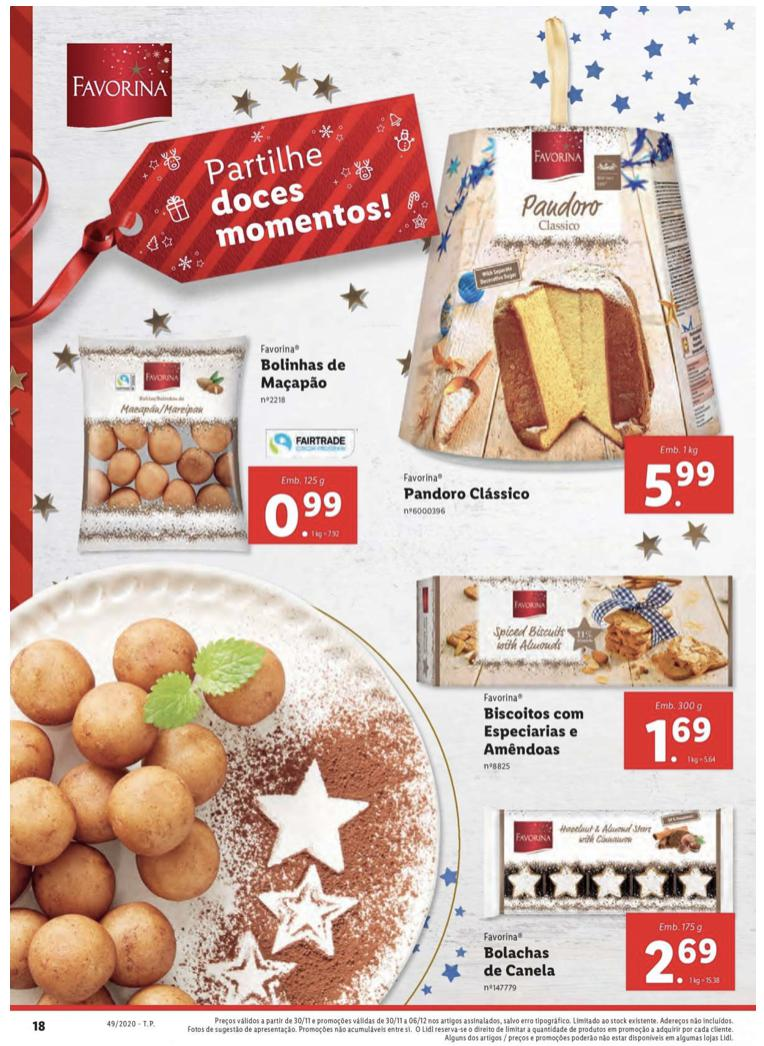name: (479, 703, 587, 758), (259, 354, 348, 393), (478, 942, 559, 980), (400, 483, 535, 503)
price: (621, 455, 724, 509), (254, 487, 344, 541), (644, 936, 723, 989), (646, 714, 720, 763)
product: (393, 103, 741, 527), (404, 561, 746, 790), (66, 320, 353, 562), (472, 801, 746, 996)
